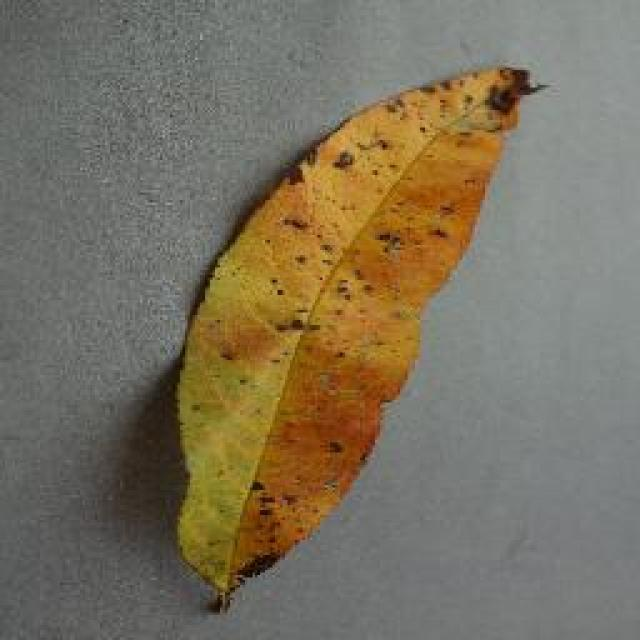Bacterial_spot: (172, 45, 550, 618)
